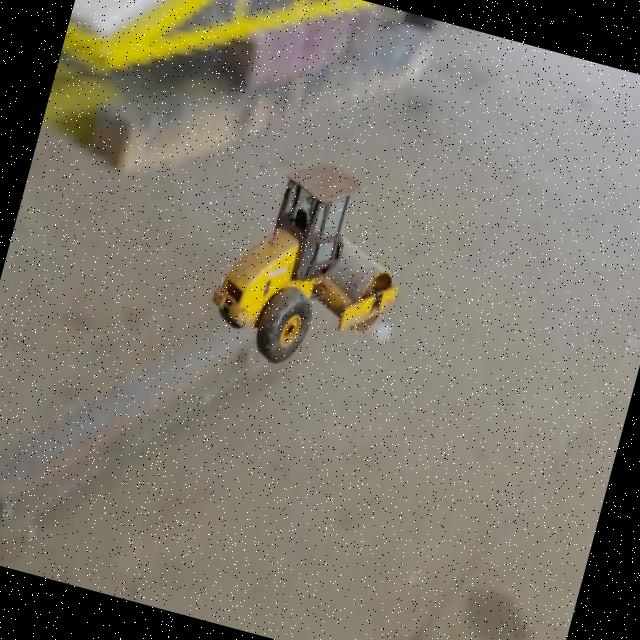Roller: (198, 143, 424, 390)
